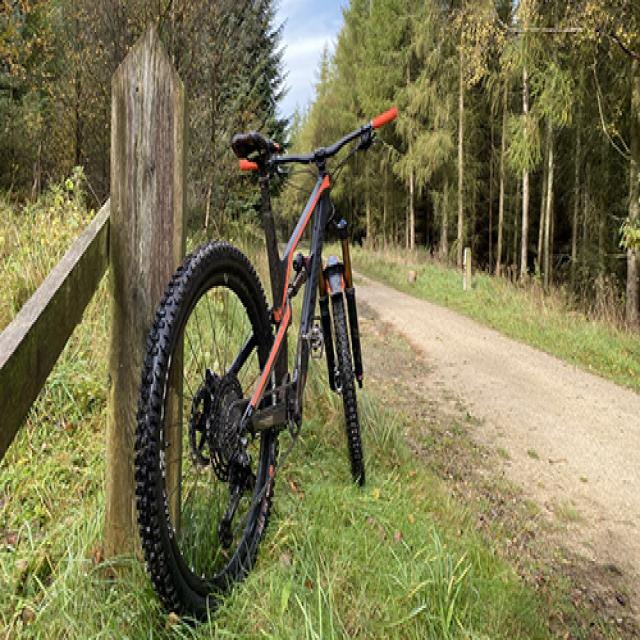bicycle: (135, 108, 397, 616)
